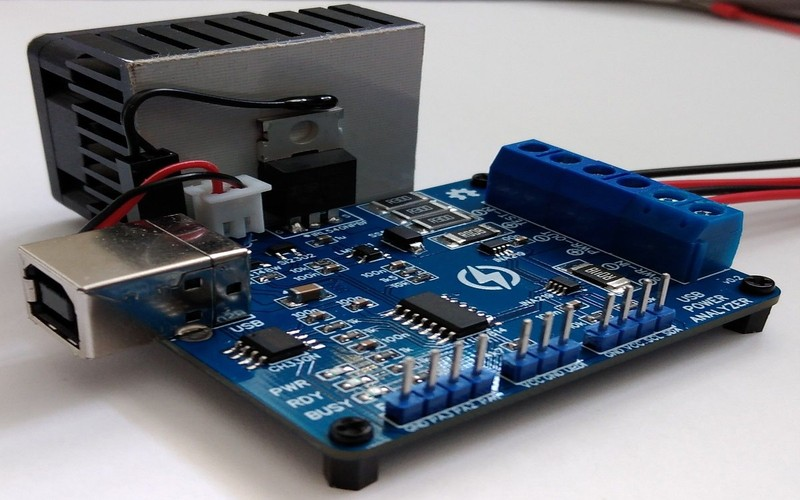Regulator: (12, 134, 800, 480)
